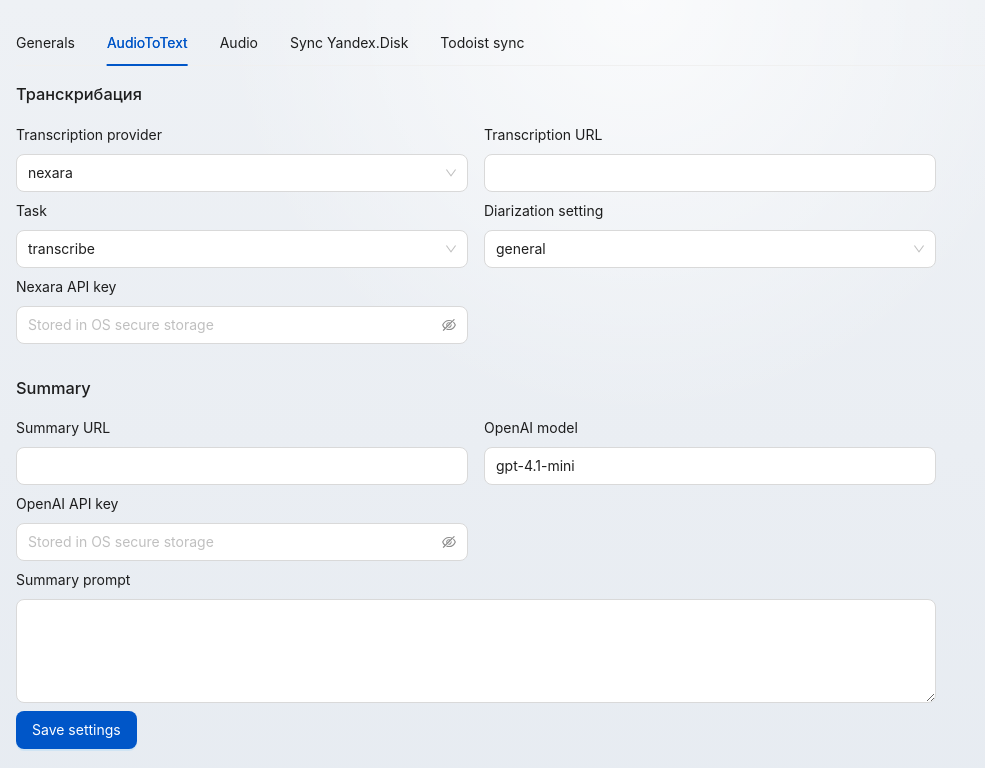
Scenario: App settings window › shows a granted macOS permission state without the permission-required guidance
The width and height of the screenshot is (985, 768).
Click the tab "Audio". click: (239, 43)
box: 220,32 -> 258,54
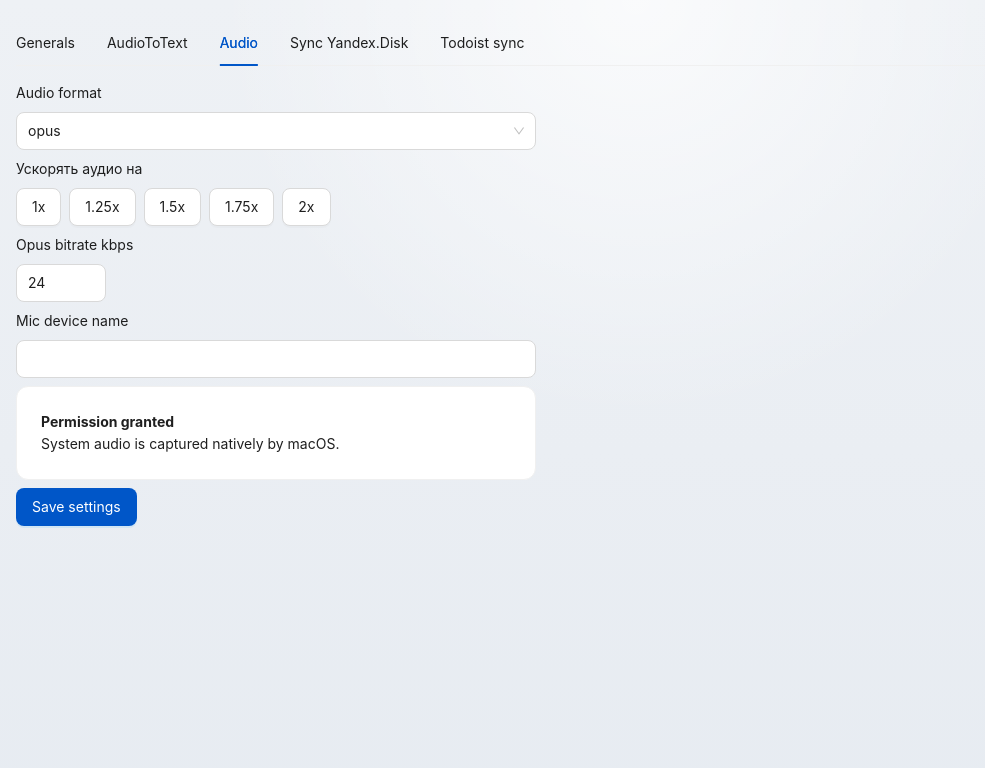
Expected: the text "Permission granted" is shown, 41,413 -> 174,430
